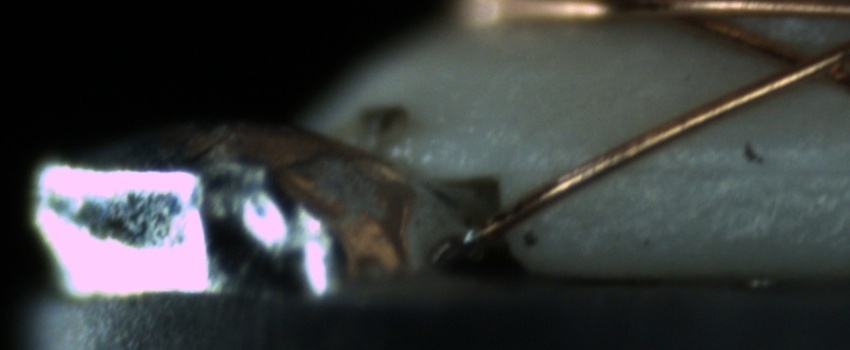CL: (754, 36, 847, 93)
DL: (608, 134, 848, 199)
